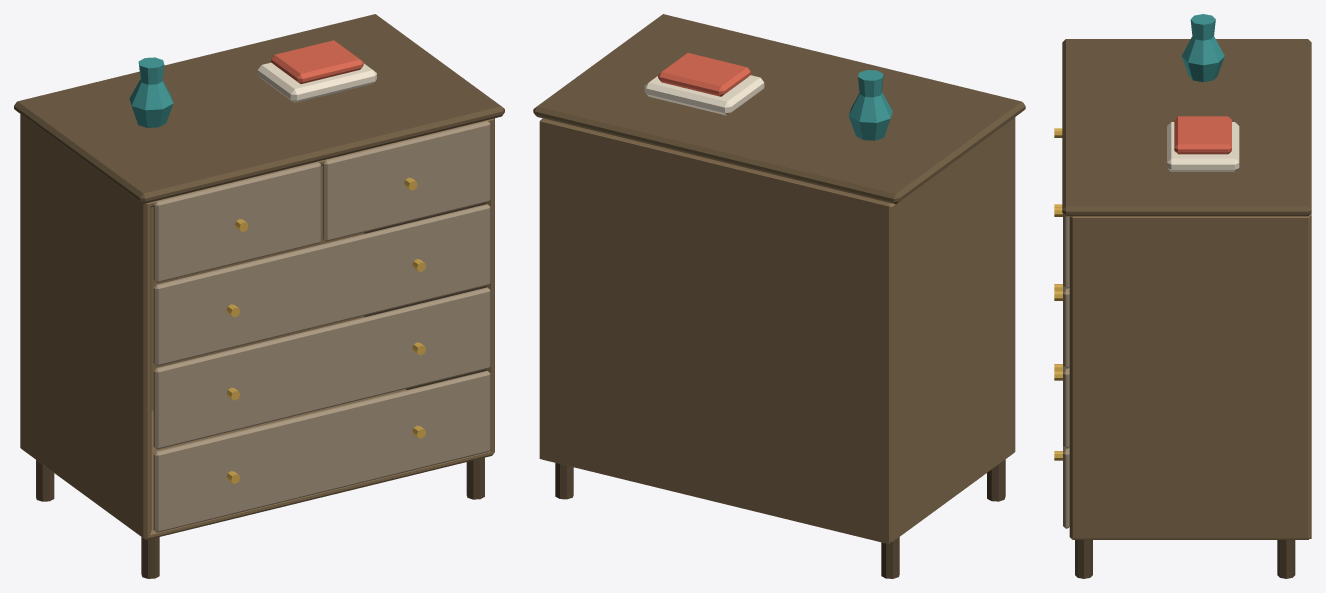
File: dresser.glb
3 views of the same model, side by side, from view 1: azimuth 30°, elevation 25°; view 2: azimuth 150°, elevation 25°; view 3: azimuth 270°, elevation 25° (orthographic). The views are drawn at different scales.
Parts seen in each view (by area): view 1: dresser_Body; view 2: dresser_Body; view 3: dresser_Body.
Part boxes in pixels (<box>): dresser_Body: <box>14,14,504,578</box>; dresser_Body: <box>533,14,1025,578</box>; dresser_Body: <box>1054,14,1311,578</box>.
Size of the model in its own units: 1.1 by 1.3 by 0.7.
